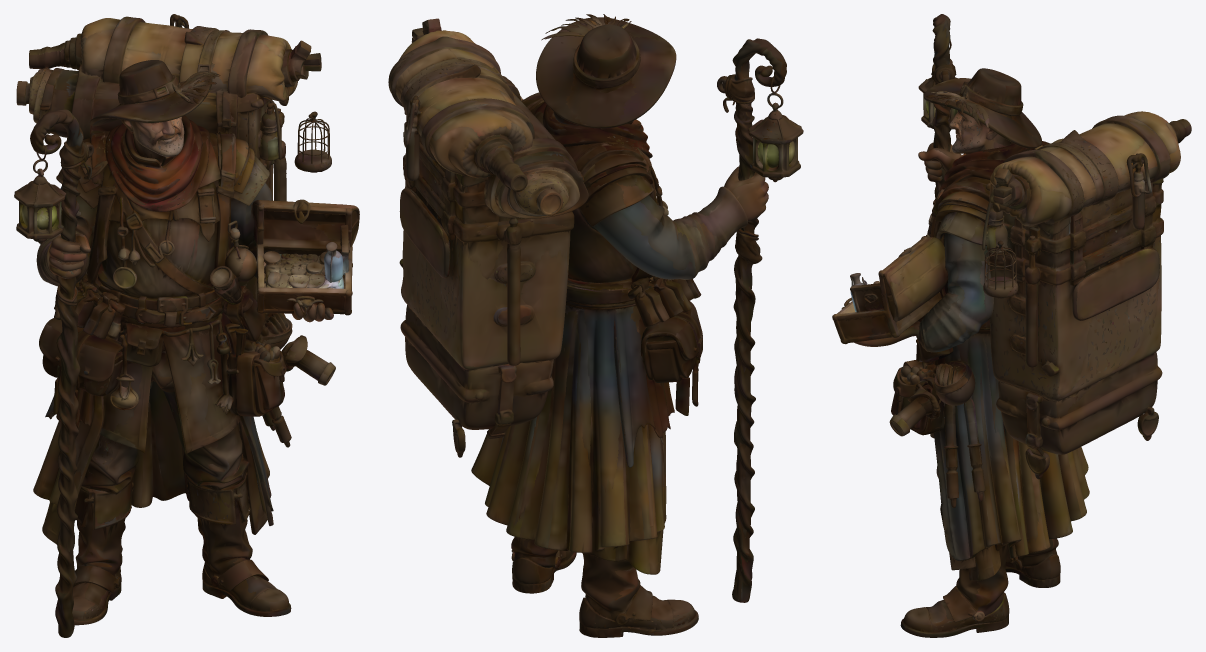
File: merchant_npc.glb
The picture shows the model from 3 angles, left to right: view 1: azimuth 30°, elevation 25°; view 2: azimuth 150°, elevation 25°; view 3: azimuth 270°, elevation 25°; orthographic projection. The views are drawn at different scales.
Visible parts, largest first — view 1: material; view 2: material; view 3: material.
Part boxes in pixels (x1,y1,x2,y2): material: (14, 14, 359, 637); material: (388, 14, 803, 637); material: (832, 14, 1191, 637).
Size of the model in its own units: 0.6741 by 1.03 by 0.6481.
Materials: 1 (1 with a texture image).
